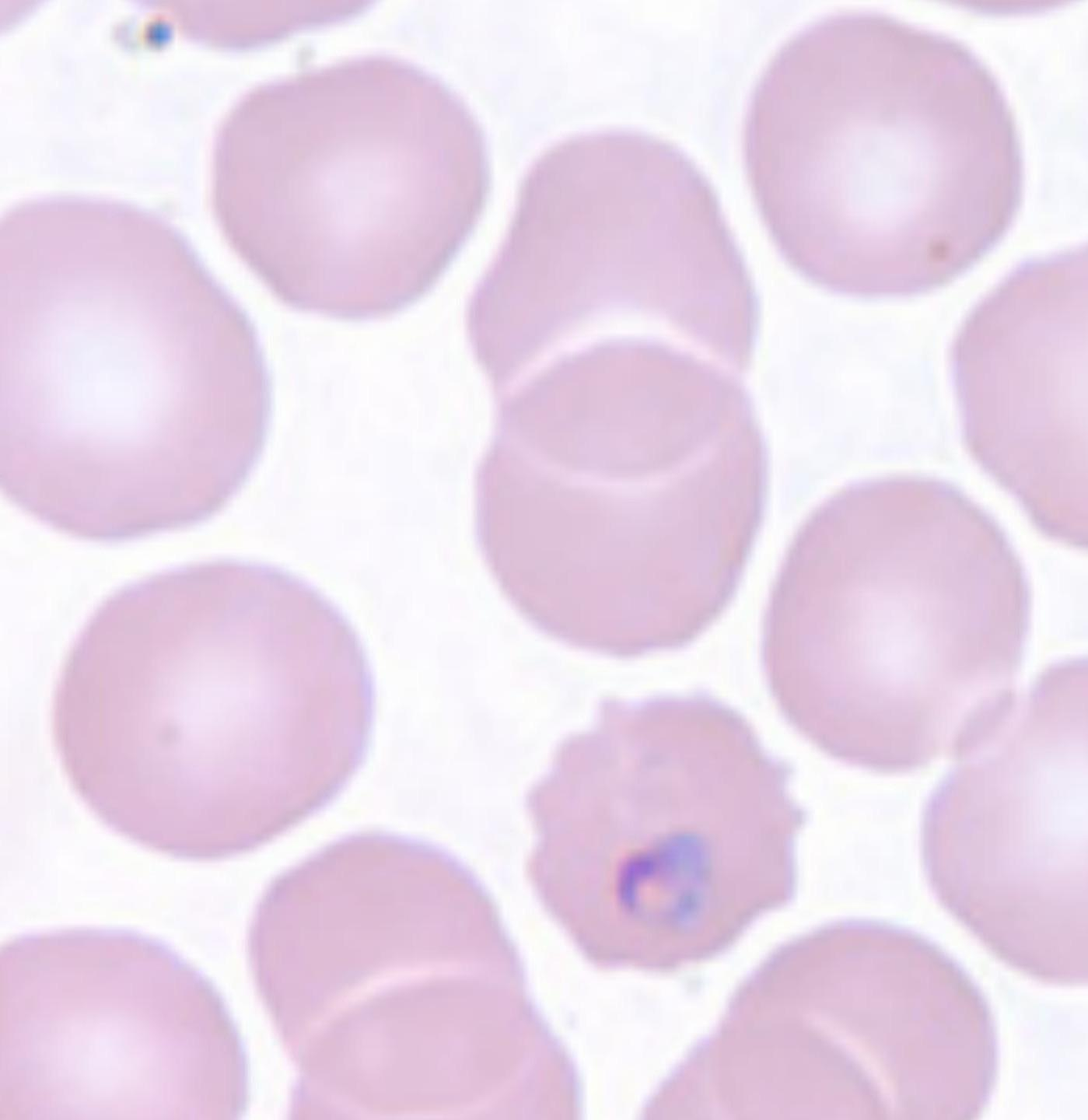Infected: (537, 697, 801, 971)
Uninfected: (467, 131, 754, 482), (54, 560, 369, 860), (0, 195, 268, 543), (472, 343, 762, 657), (745, 12, 1027, 300), (764, 471, 1025, 770), (251, 831, 534, 1106), (212, 55, 488, 319), (920, 654, 1088, 988), (723, 918, 1000, 1120), (0, 926, 249, 1120)
